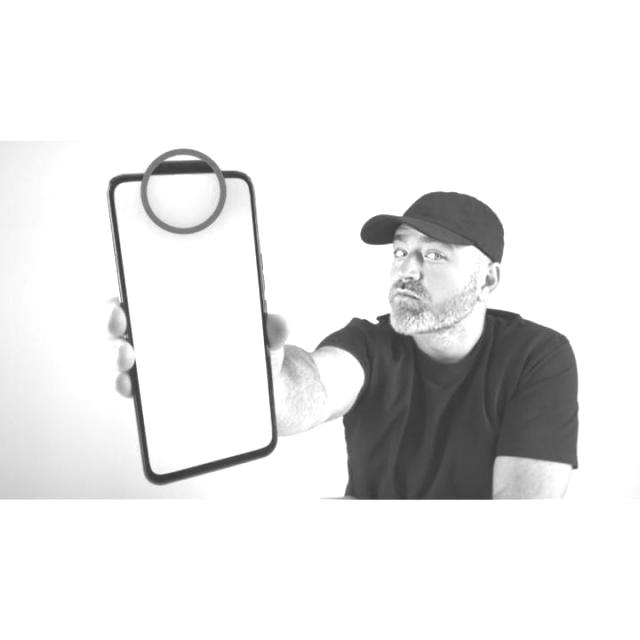fake: (105, 167, 279, 489)
real: (393, 235, 465, 332)
